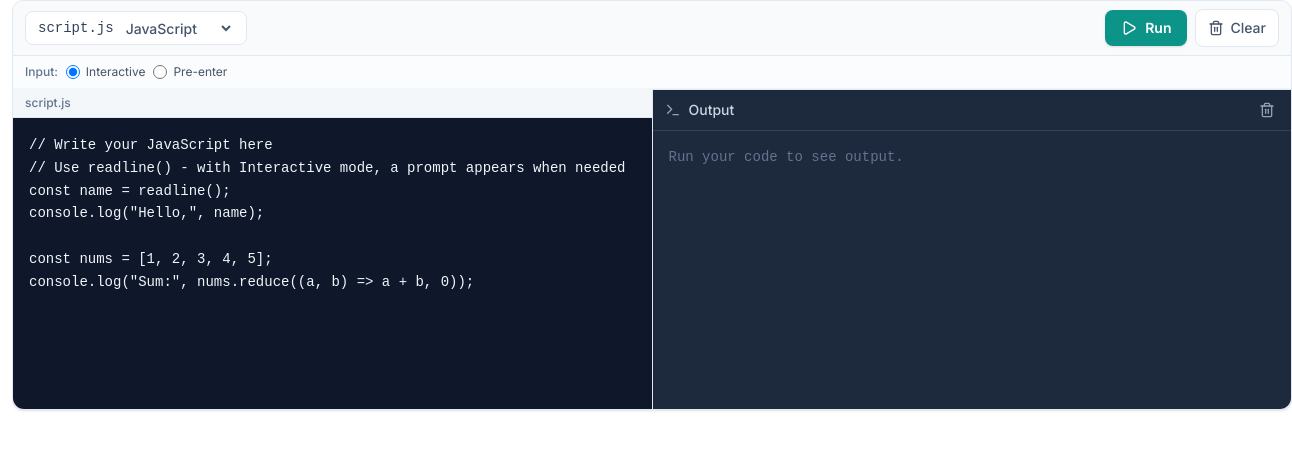
CodeBlock › Python runtime (mocked pyodide) › runs python via loadPyodide when available
The image size is (1292, 458).
Select "Python" in the dropdown named "Language": point(178, 28) [122,18,234,38]
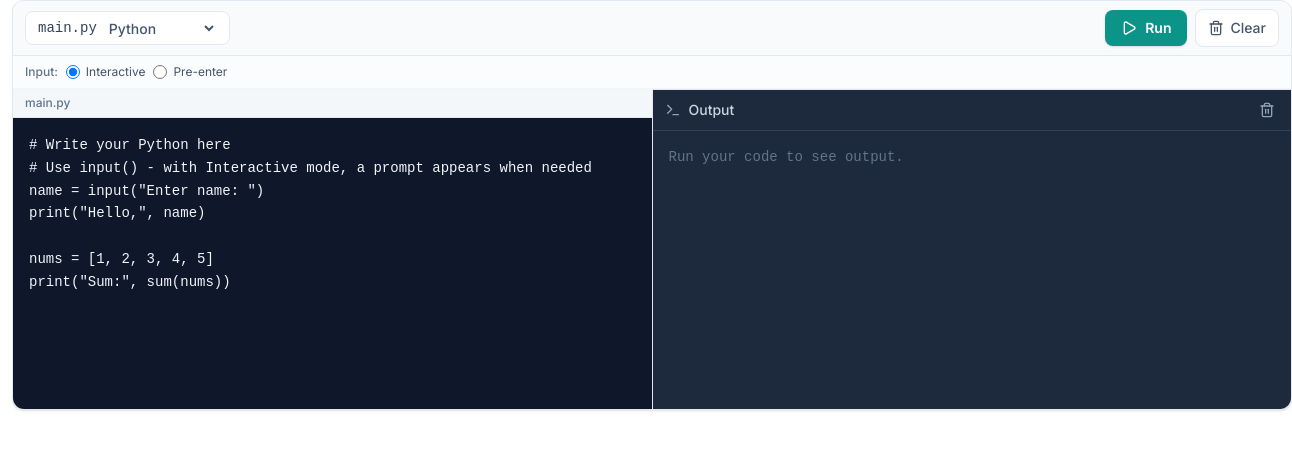
# switch to pre-enter stdin (so prompt isn't needed)
Click the radio button labelled "Pre-enter": point(160, 72) [153,65,167,79]
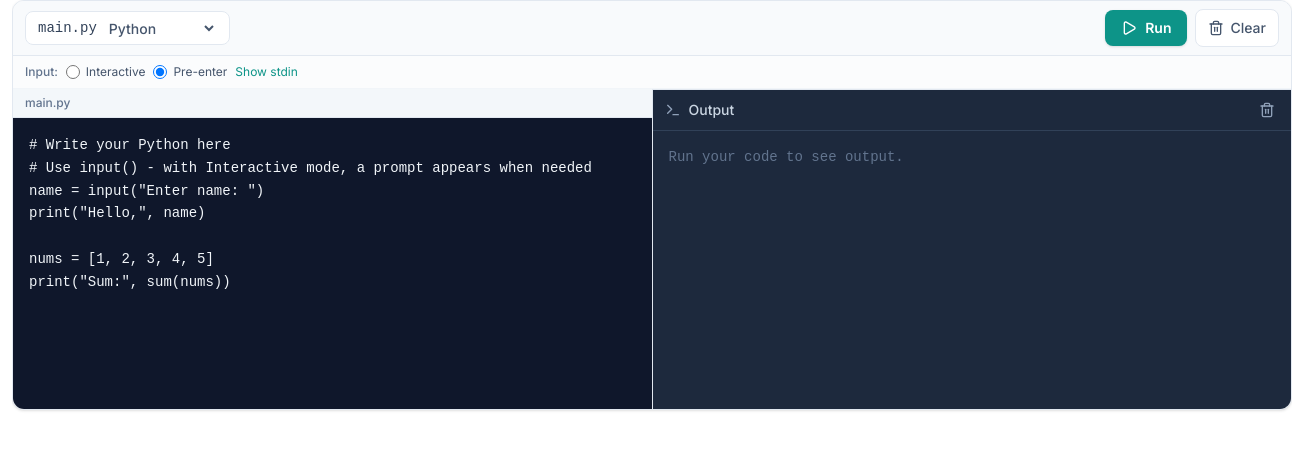
Click the button "Show stdin": point(267, 72) [235,64,298,80]
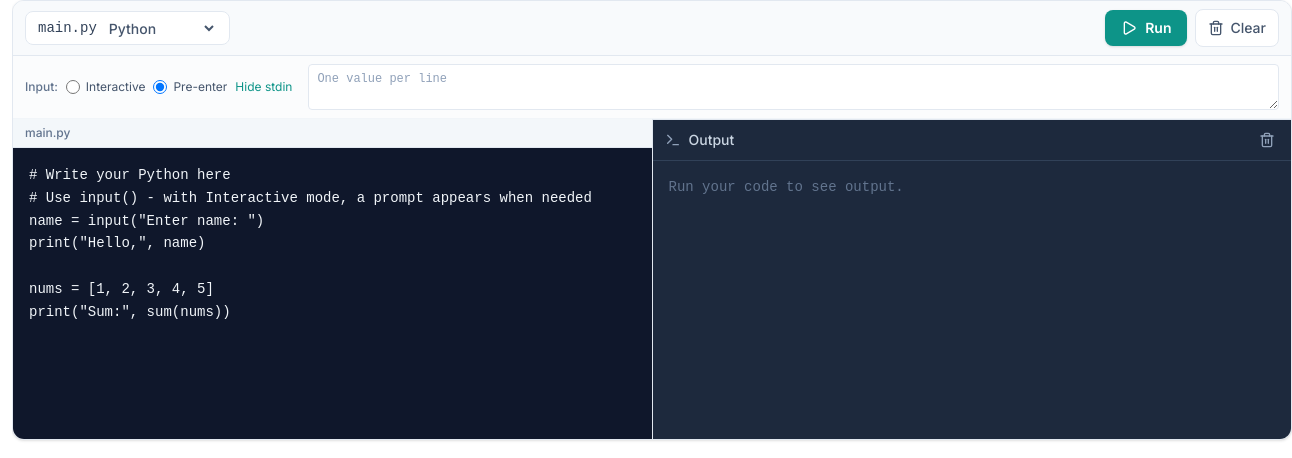
In the text box with placeholder "One value per line": point(794, 87) [308,64,1279,110], type "x"
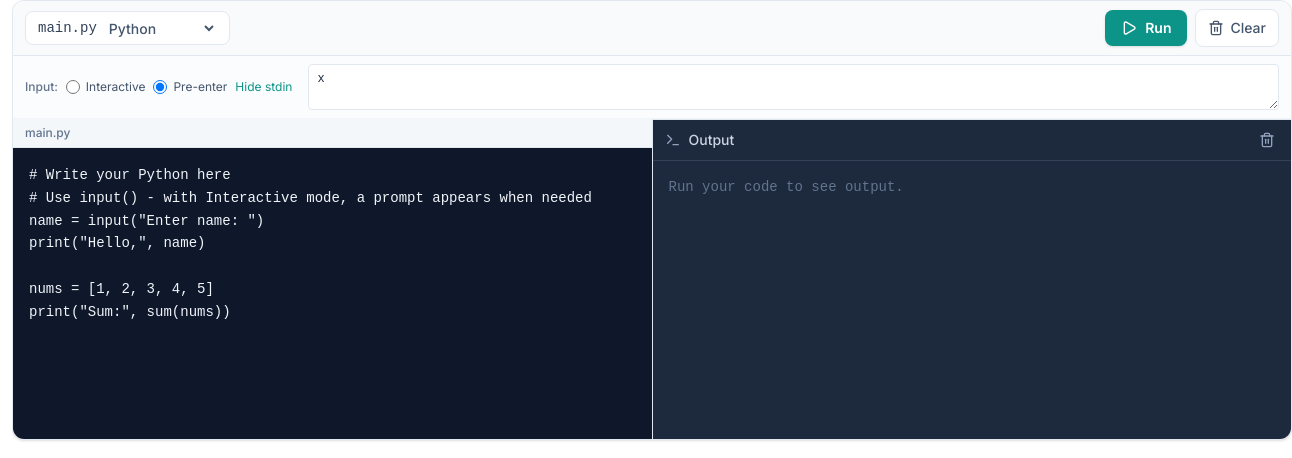
Replace the text in the text box with placeholder "One value per line" in the row of "Pre-enter" with "print(\"ok\")": point(794, 87) [308,64,1279,110]
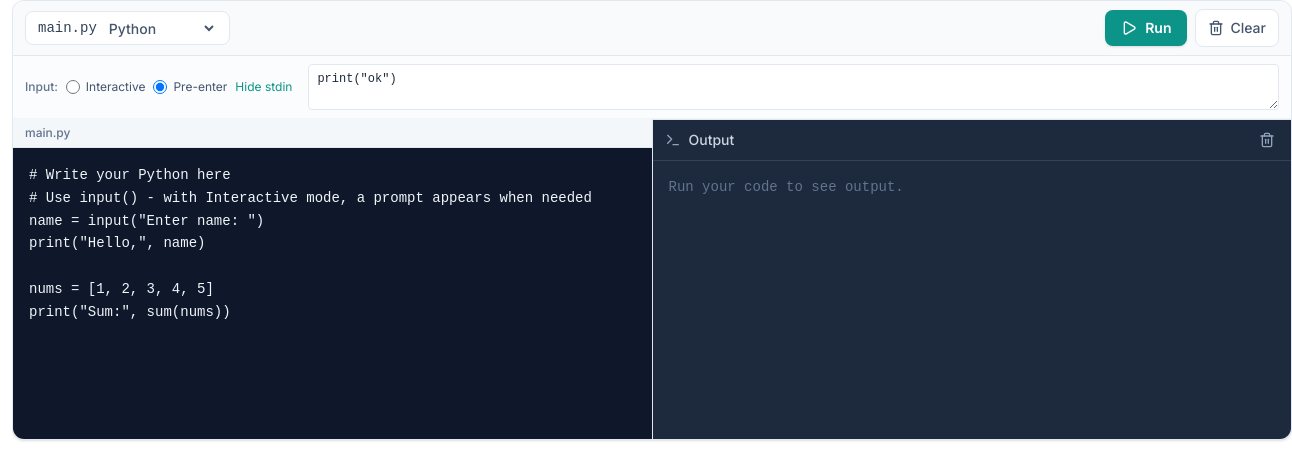
Click the button "Run": point(1146, 28) [1105,10,1188,46]
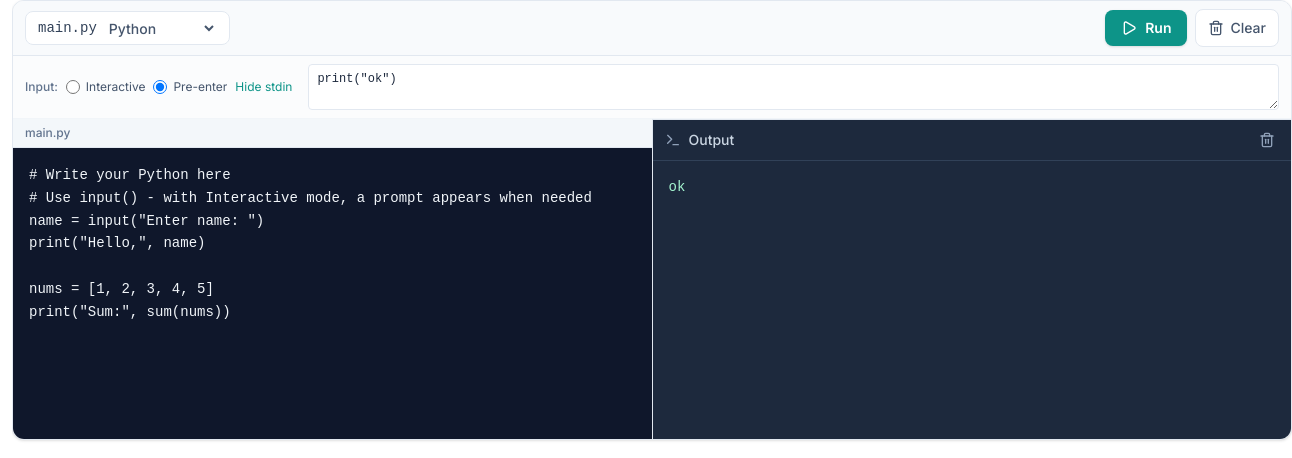
Expected: the text "ok" is shown, [668,179,685,195]
